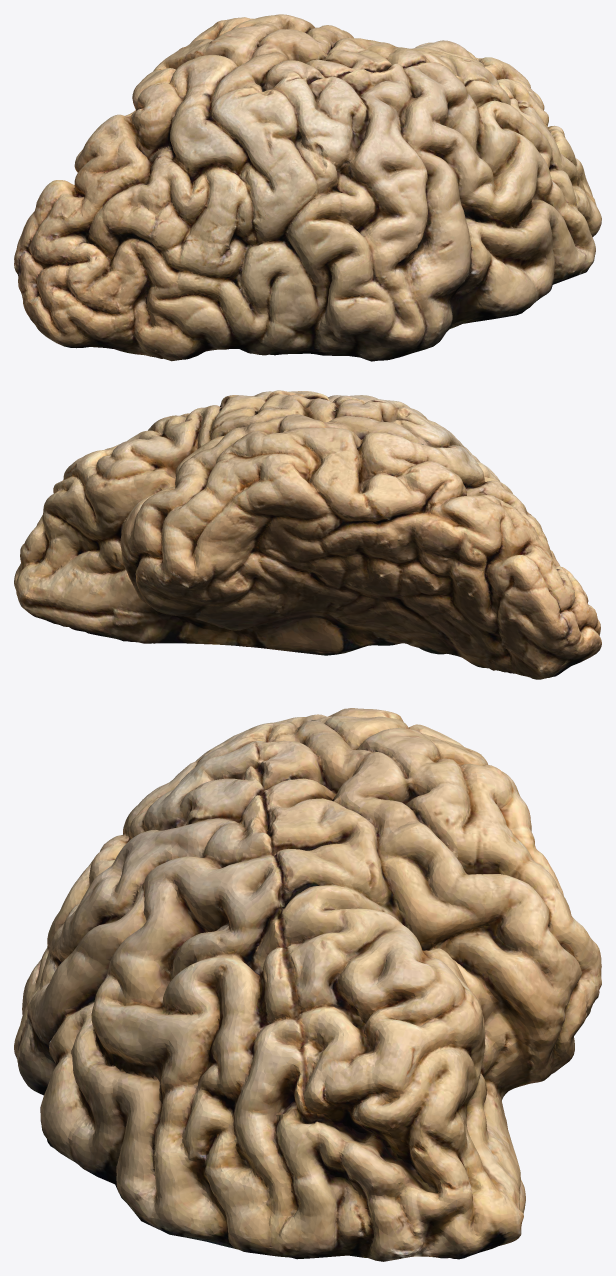
The model's file is Step1-transformed.glb.
3 renders of one model, top to bottom at view 1: azimuth 30°, elevation 25°; view 2: azimuth 150°, elevation 25°; view 3: azimuth 270°, elevation 25°, orthographic. The views are drawn at different scales.
Visible parts, largest first — view 1: parenchima; view 2: parenchima; view 3: parenchima.
Boxes of the visible parts, box(x1,y1,x2,y2) form: parenchima: box(14, 14, 601, 361); parenchima: box(14, 390, 601, 679); parenchima: box(14, 708, 601, 1261).
Size of the model in its own units: 0.1905 by 0.0775 by 0.1241.
1 material, 1 textured.
